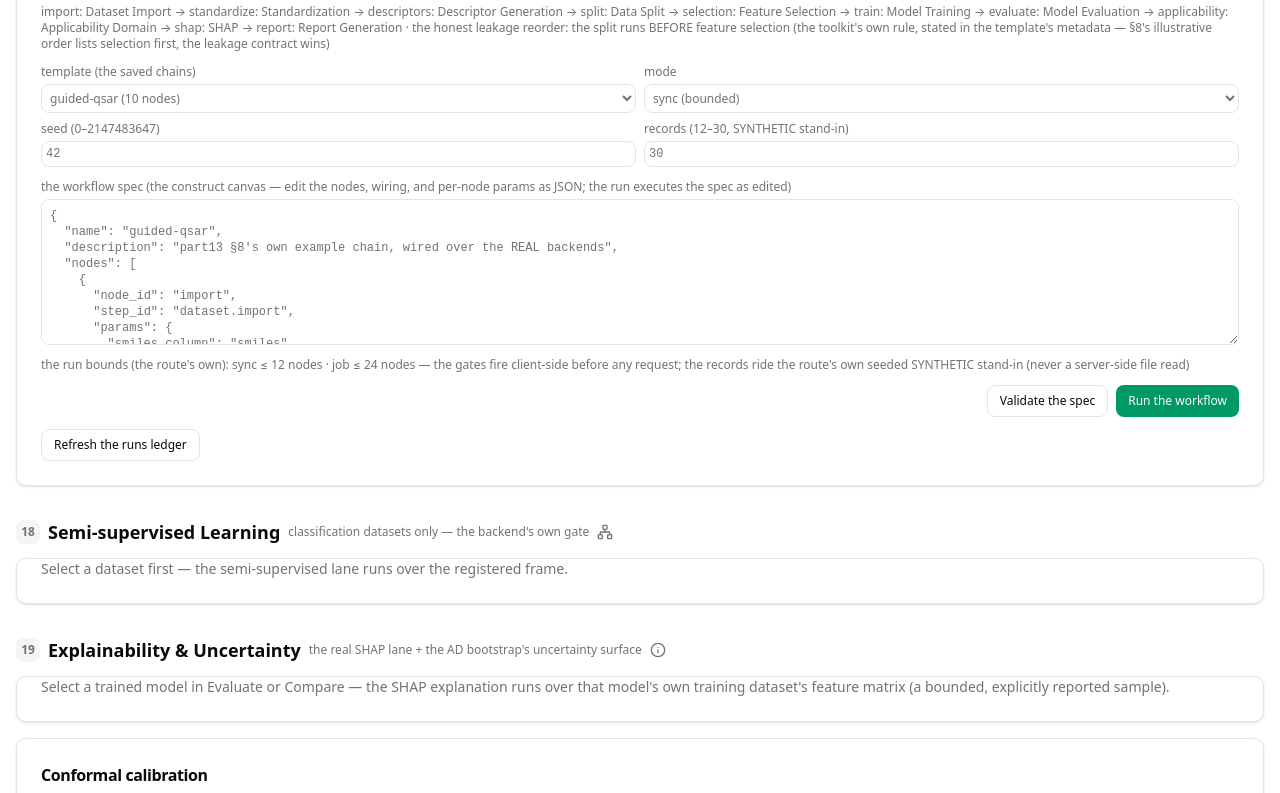
it: the §8 Workflow Builder lane of the Machine Learning workspace › validates the spec as edited and renders the verdict, the order, and the digest
(page scrolled)
What coordinates should you click on to do the following:
click the button "Validate the spec"
I would click on:
 (1047, 401)
Its box is [987, 385, 1108, 417].
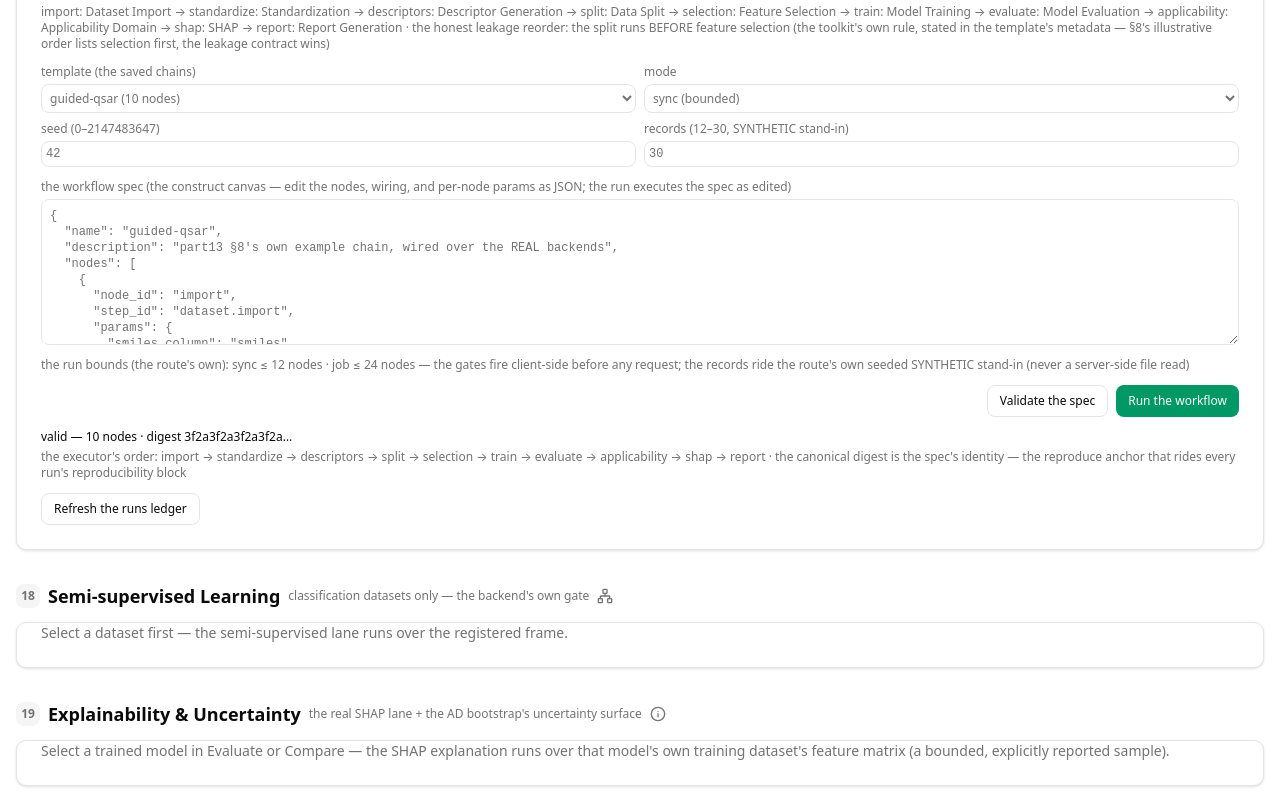
Now the text "valid — 10 nodes · digest 3f2a3f2a3f2a3f2a…" is shown, box [41, 428, 292, 445]
Now the text "the executor's order: import → standardize → descriptors" is shown, box [41, 449, 1239, 481]
Now the text "the canonical digest is the spec's identity" is shown, box [41, 448, 1235, 481]
